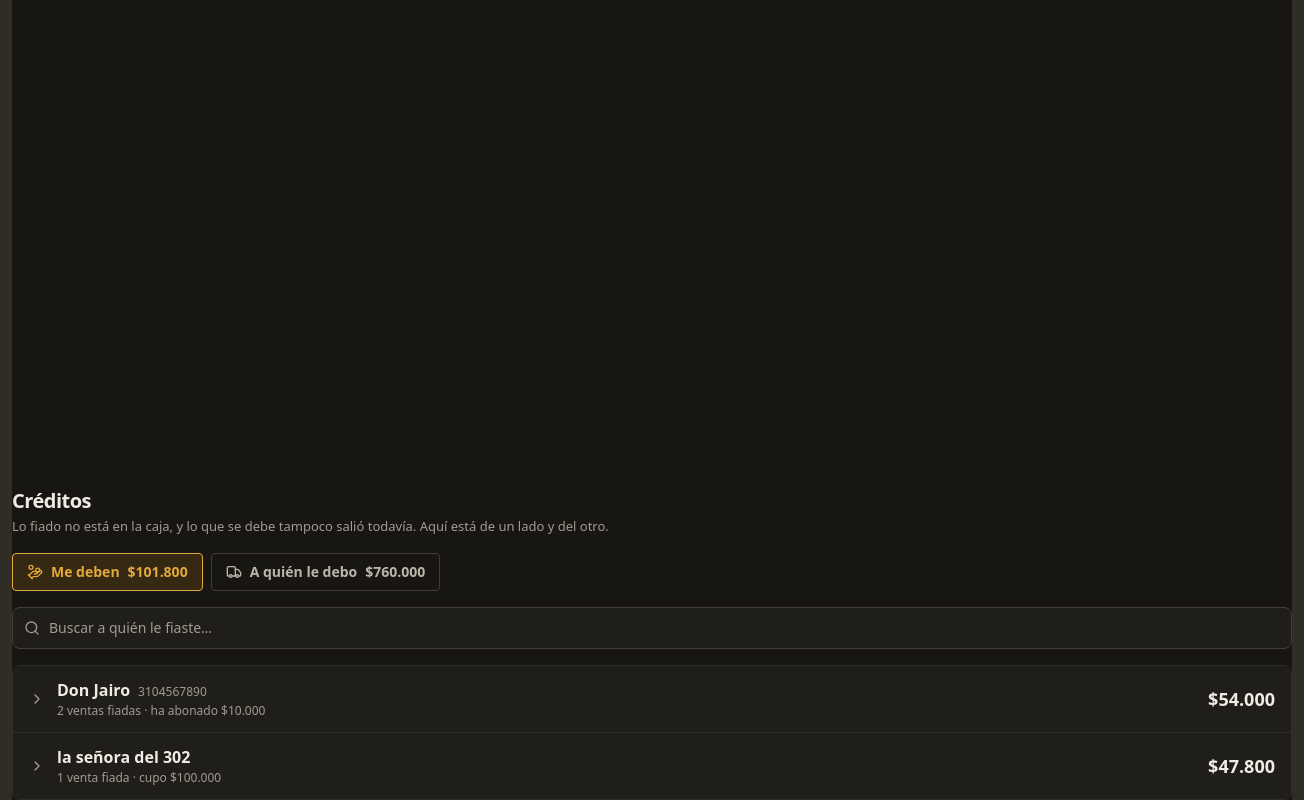
buscar › distingue «no hay nada» de «no encontré eso»
(page scrolled)
Expected: the text "Don Jairo" is shown, [57,678,130,700]
In the field labelled "Buscar": (652, 628) [12,606,1292,648], type "pedro"
(page scrolled)
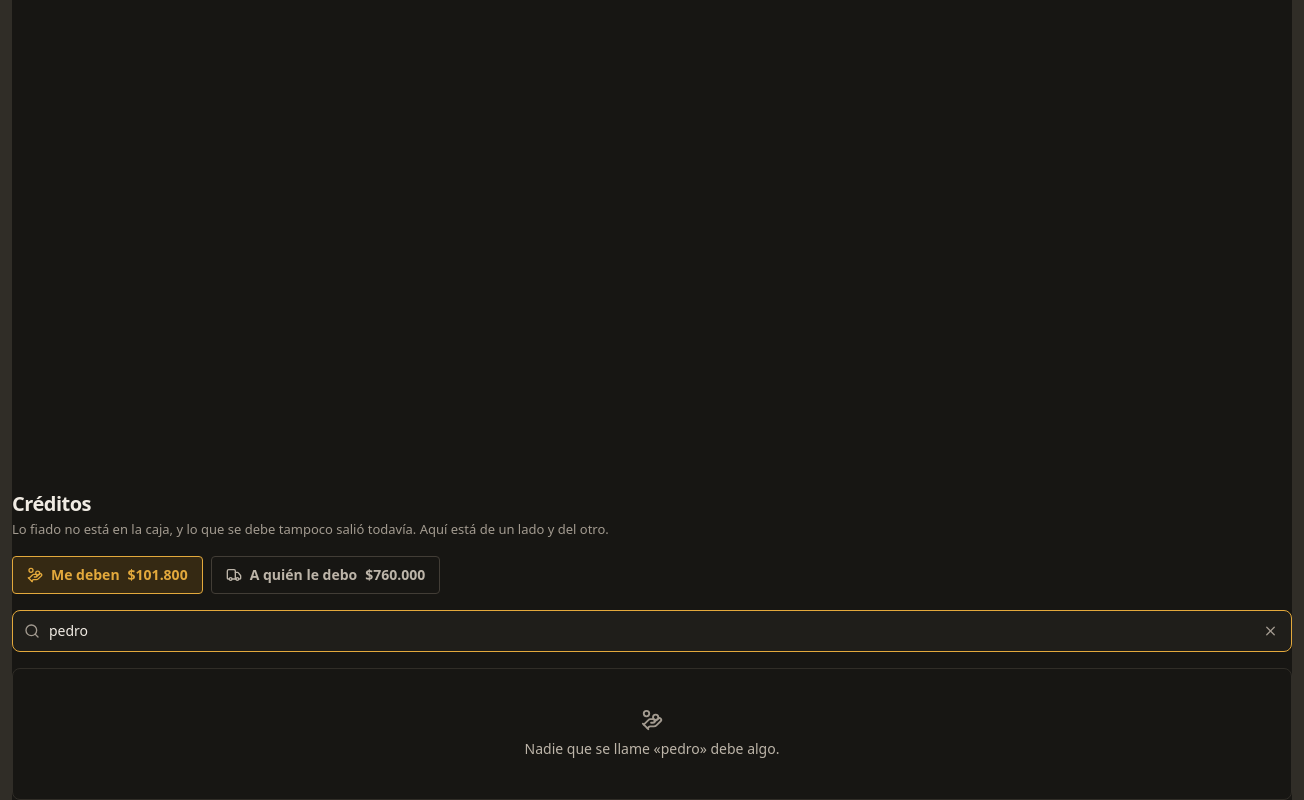
Expected: the text "Nadie que se llame «pedro» debe algo." is shown, [524,738,779,758]
